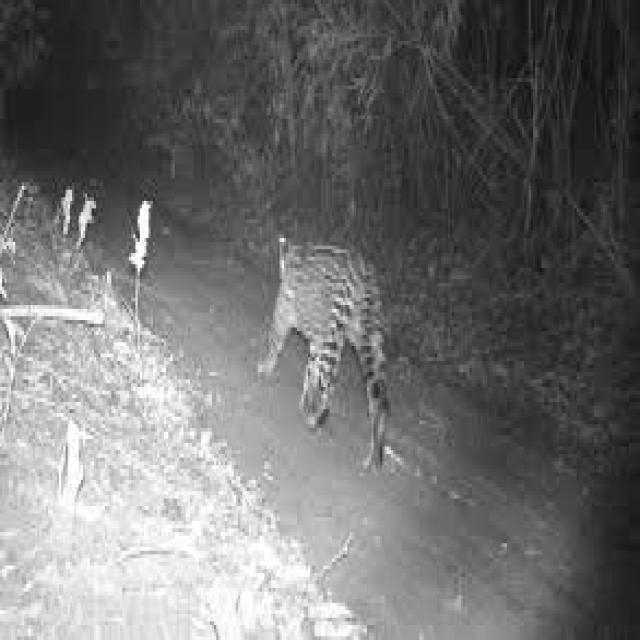Jaguar: (256, 234, 393, 476)
